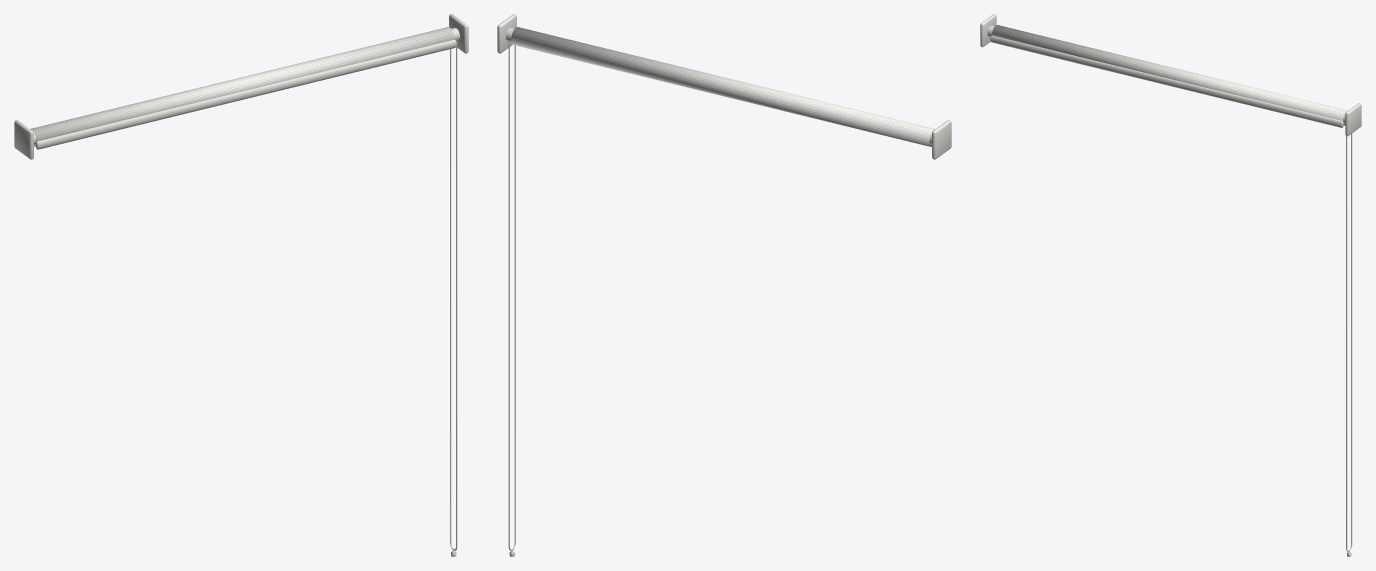
File: estor_enrollable_140_c0.glb
3 renders of one model, left to right at view 1: azimuth 30°, elevation 25°; view 2: azimuth 150°, elevation 25°; view 3: azimuth 330°, elevation 25°, orthographic. The views are drawn at different scales.
Parts seen in each view (by area): view 1: estor_enrollable_140_c0; view 2: estor_enrollable_140_c0; view 3: estor_enrollable_140_c0.
Part boxes in pixels (x1,y1,x2,y2): estor_enrollable_140_c0: [14, 14, 468, 556]; estor_enrollable_140_c0: [497, 14, 951, 556]; estor_enrollable_140_c0: [980, 14, 1361, 556].
Bounding box in the file's own units: 1.2 × 1.4 × 0.08.
4 materials, 1 textured.
